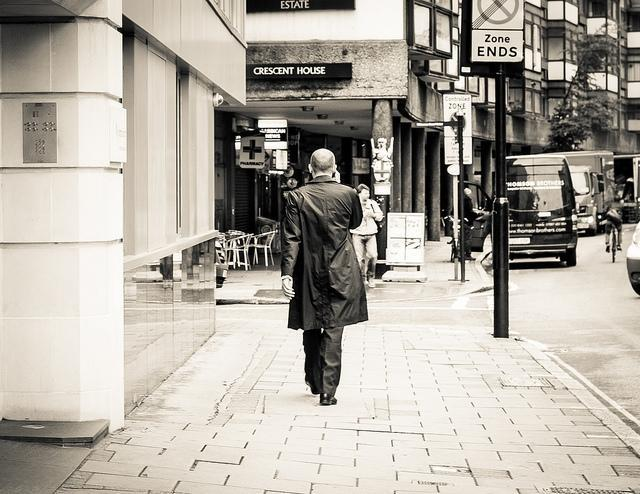bicycle: (608, 224, 622, 266), (447, 234, 460, 262)
car: (625, 219, 640, 294)
truck: (508, 150, 615, 234), (504, 159, 580, 268)
